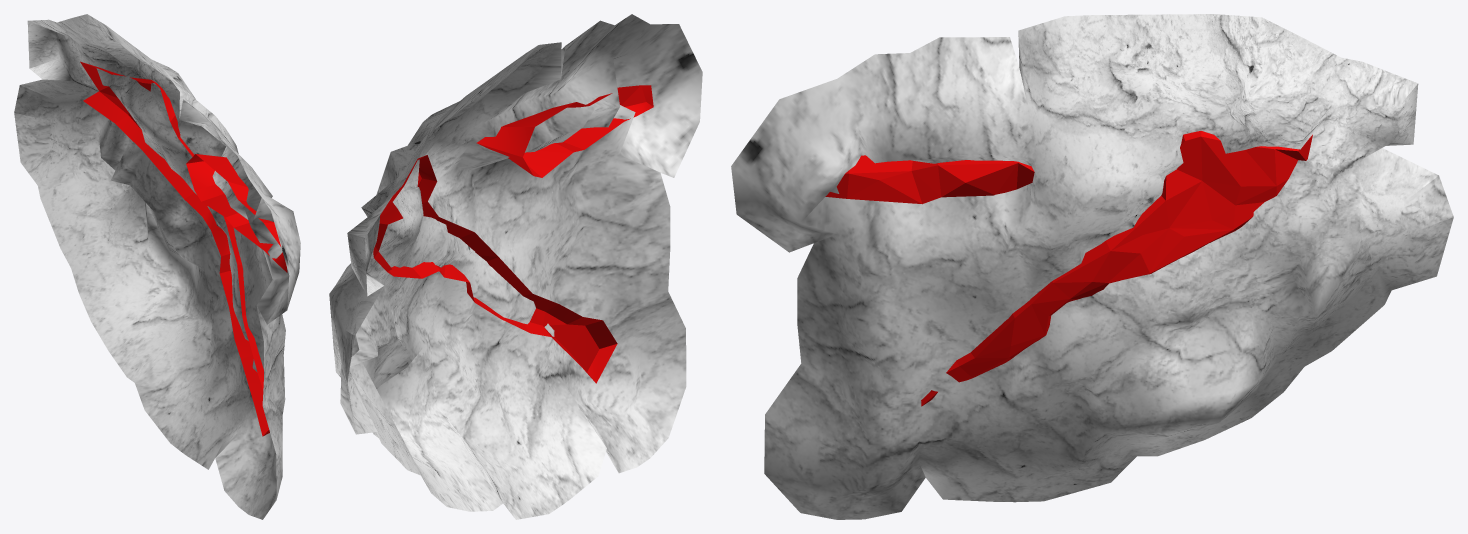
Rendered from Alt_Light_4_TOGETHER_straight.fbx.
The picture shows the model from 3 angles, left to right: view 1: azimuth 30°, elevation 25°; view 2: azimuth 150°, elevation 25°; view 3: azimuth 270°, elevation 25°; orthographic projection. The views are drawn at different scales.
Visible parts, largest first — view 1: iv_r, iv_e; view 2: iv_r, iv_e; view 3: iv_r, iv_e.
Part boxes in pixels (left/top/right/bottom): iv_r: left=14, top=14, right=300, bottom=519; iv_e: left=80, top=61, right=287, bottom=436; iv_r: left=329, top=14, right=702, bottom=519; iv_e: left=373, top=85, right=653, bottom=383; iv_r: left=731, top=14, right=1453, bottom=519; iv_e: left=825, top=131, right=1312, bottom=406.
Size of the model in its own units: 14.03 by 62.81 by 81.31.
